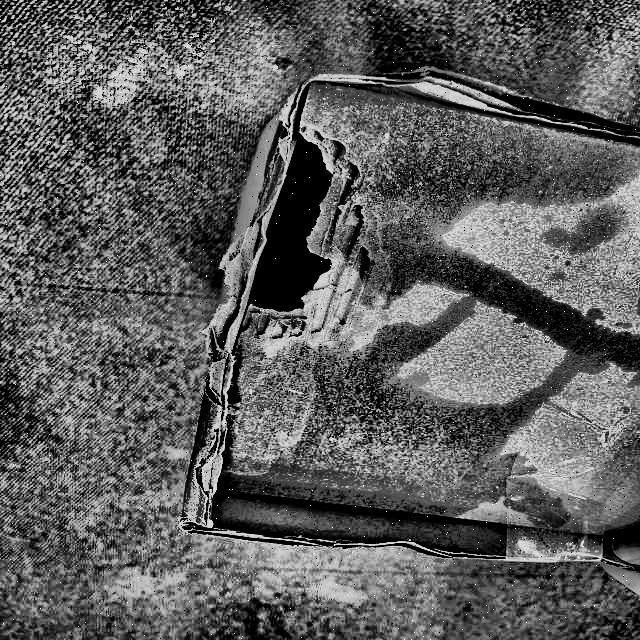box: (170, 64, 640, 572)
hole: (214, 100, 359, 336)
wet: (284, 76, 624, 289), (168, 354, 542, 547)
